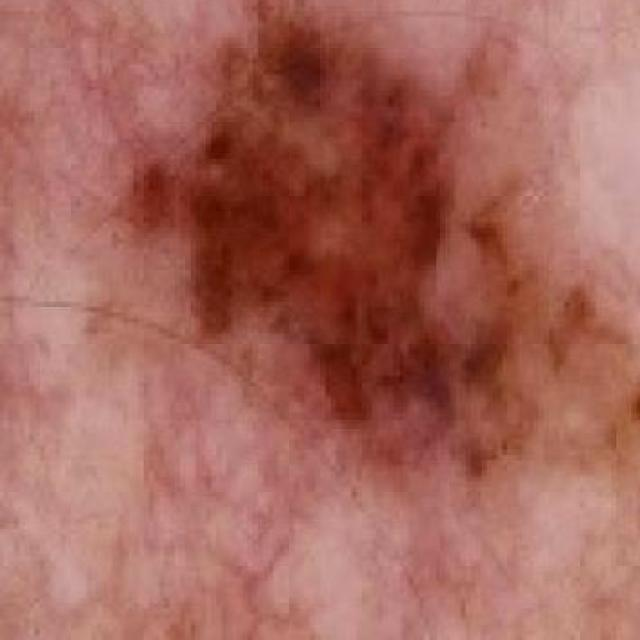MEL: (111, 0, 640, 601)
